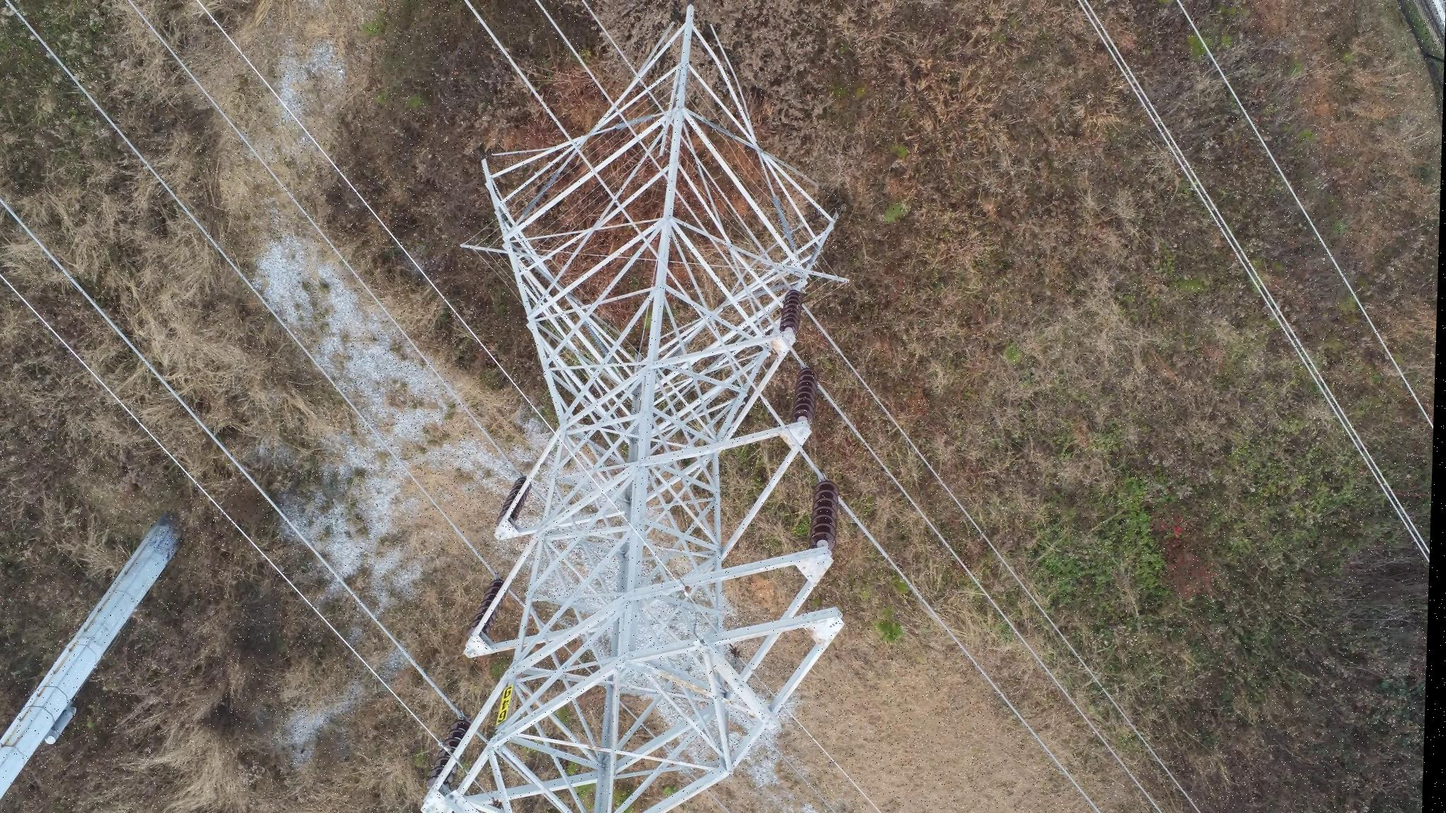tower: (417, 3, 861, 813)
